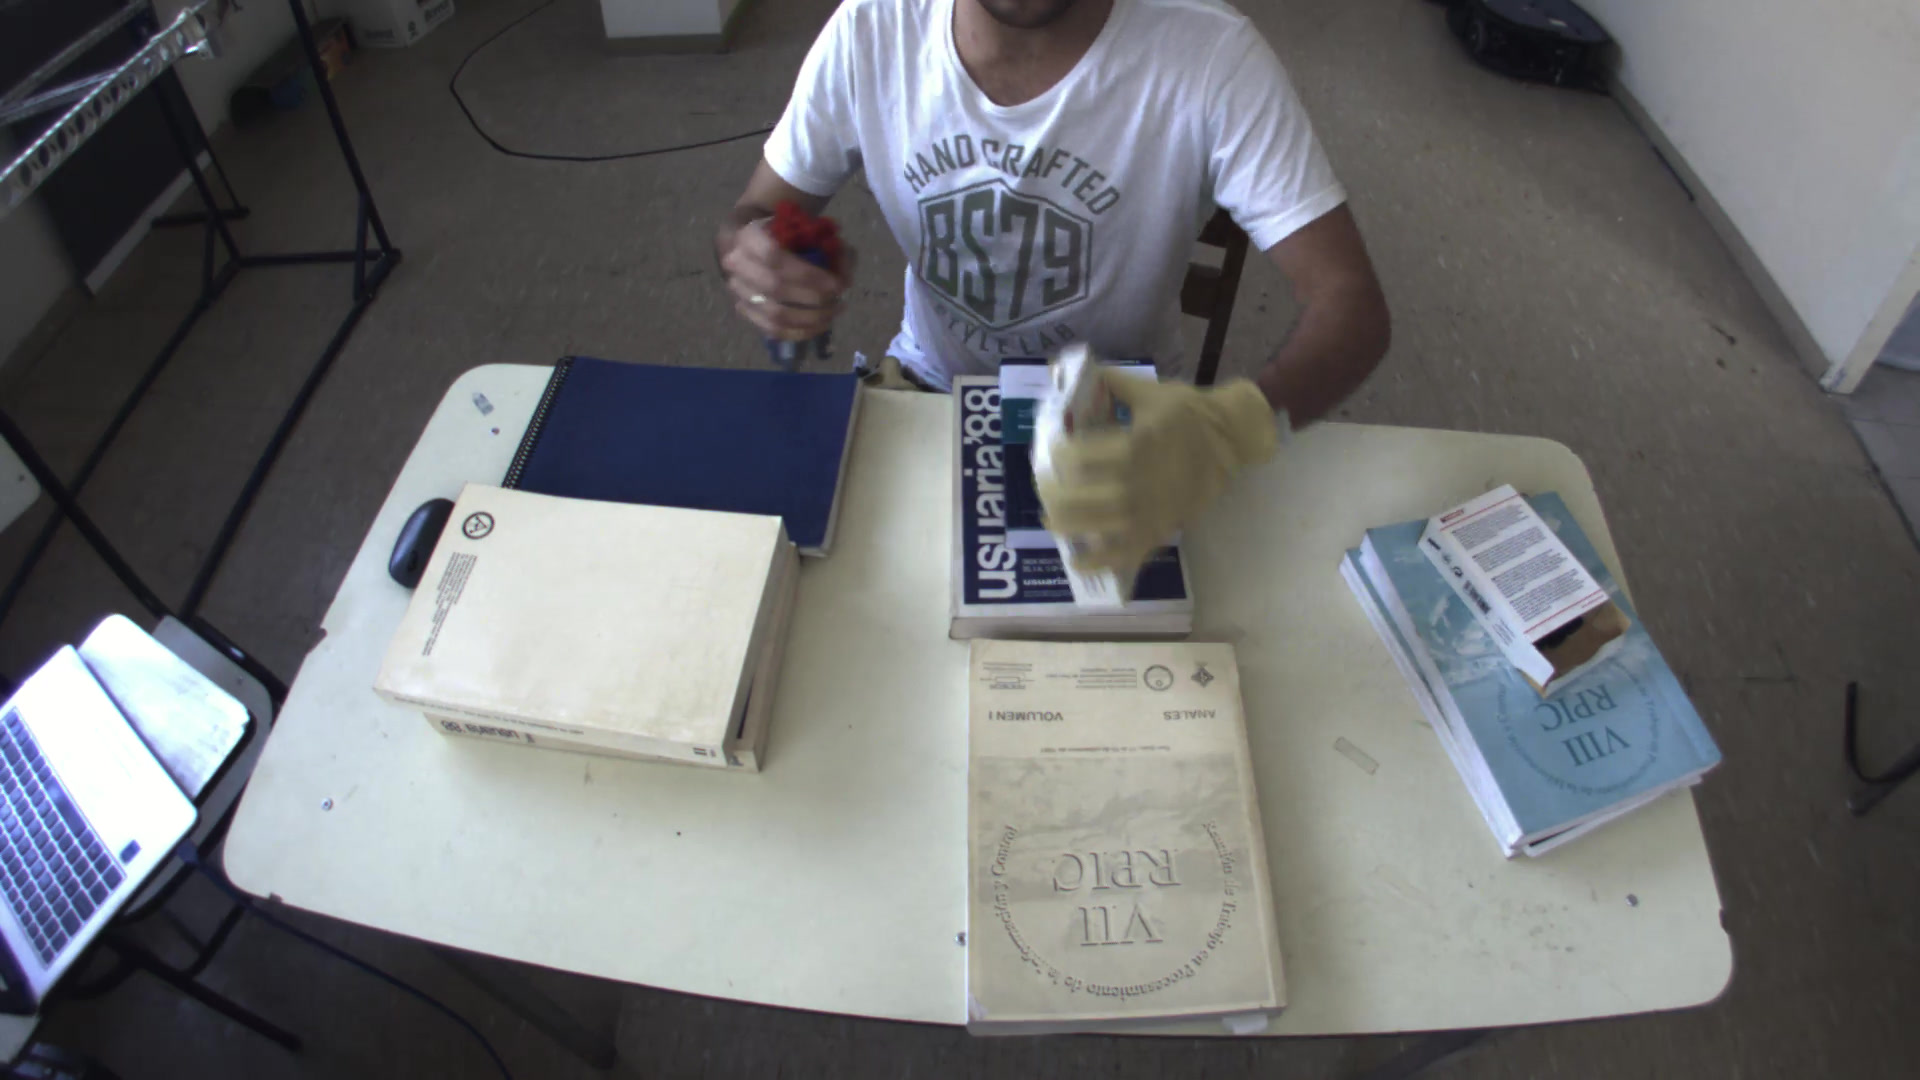hand: (1025, 345, 1282, 591), (698, 191, 862, 357)
